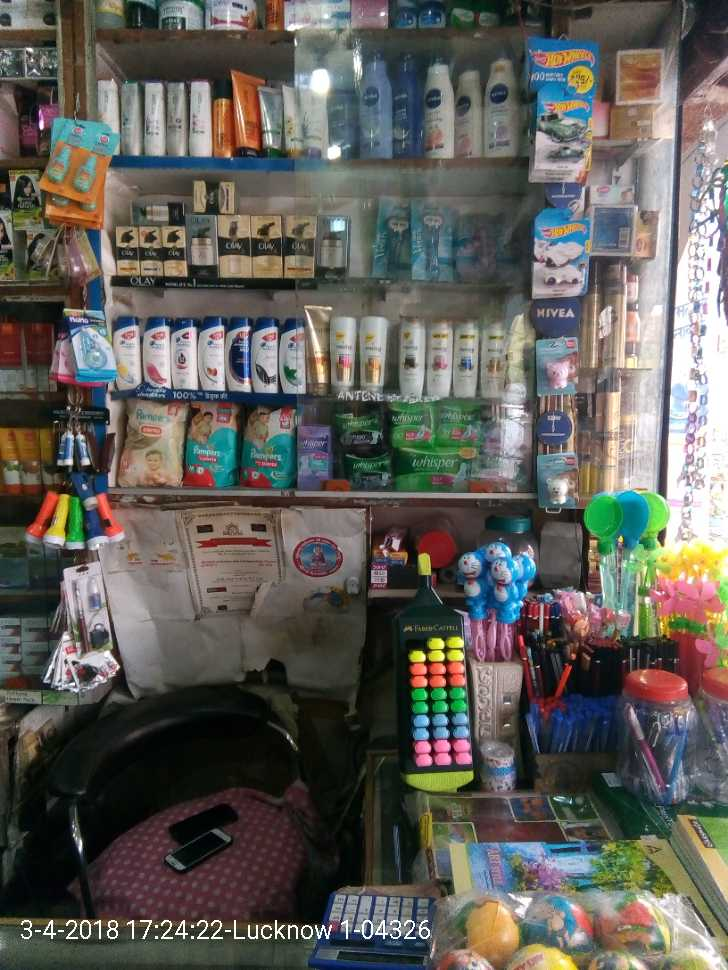venus: (410, 200, 458, 279), (376, 192, 410, 279), (490, 211, 532, 279), (459, 212, 490, 279)
